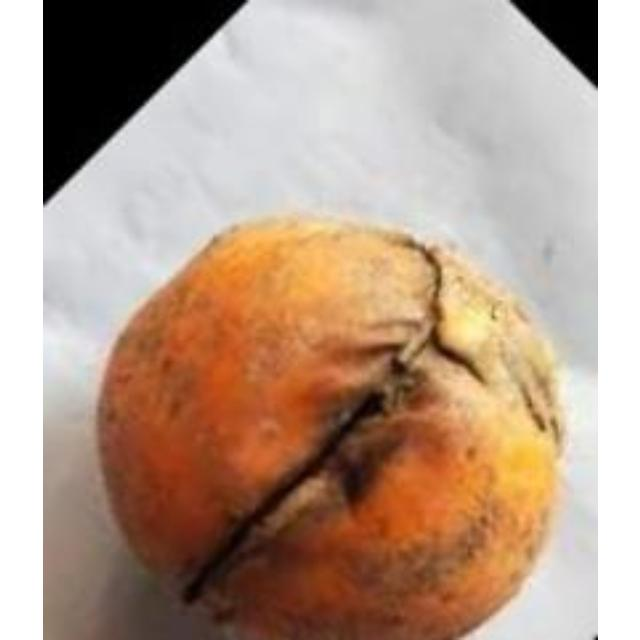damaged: (92, 215, 568, 637)
